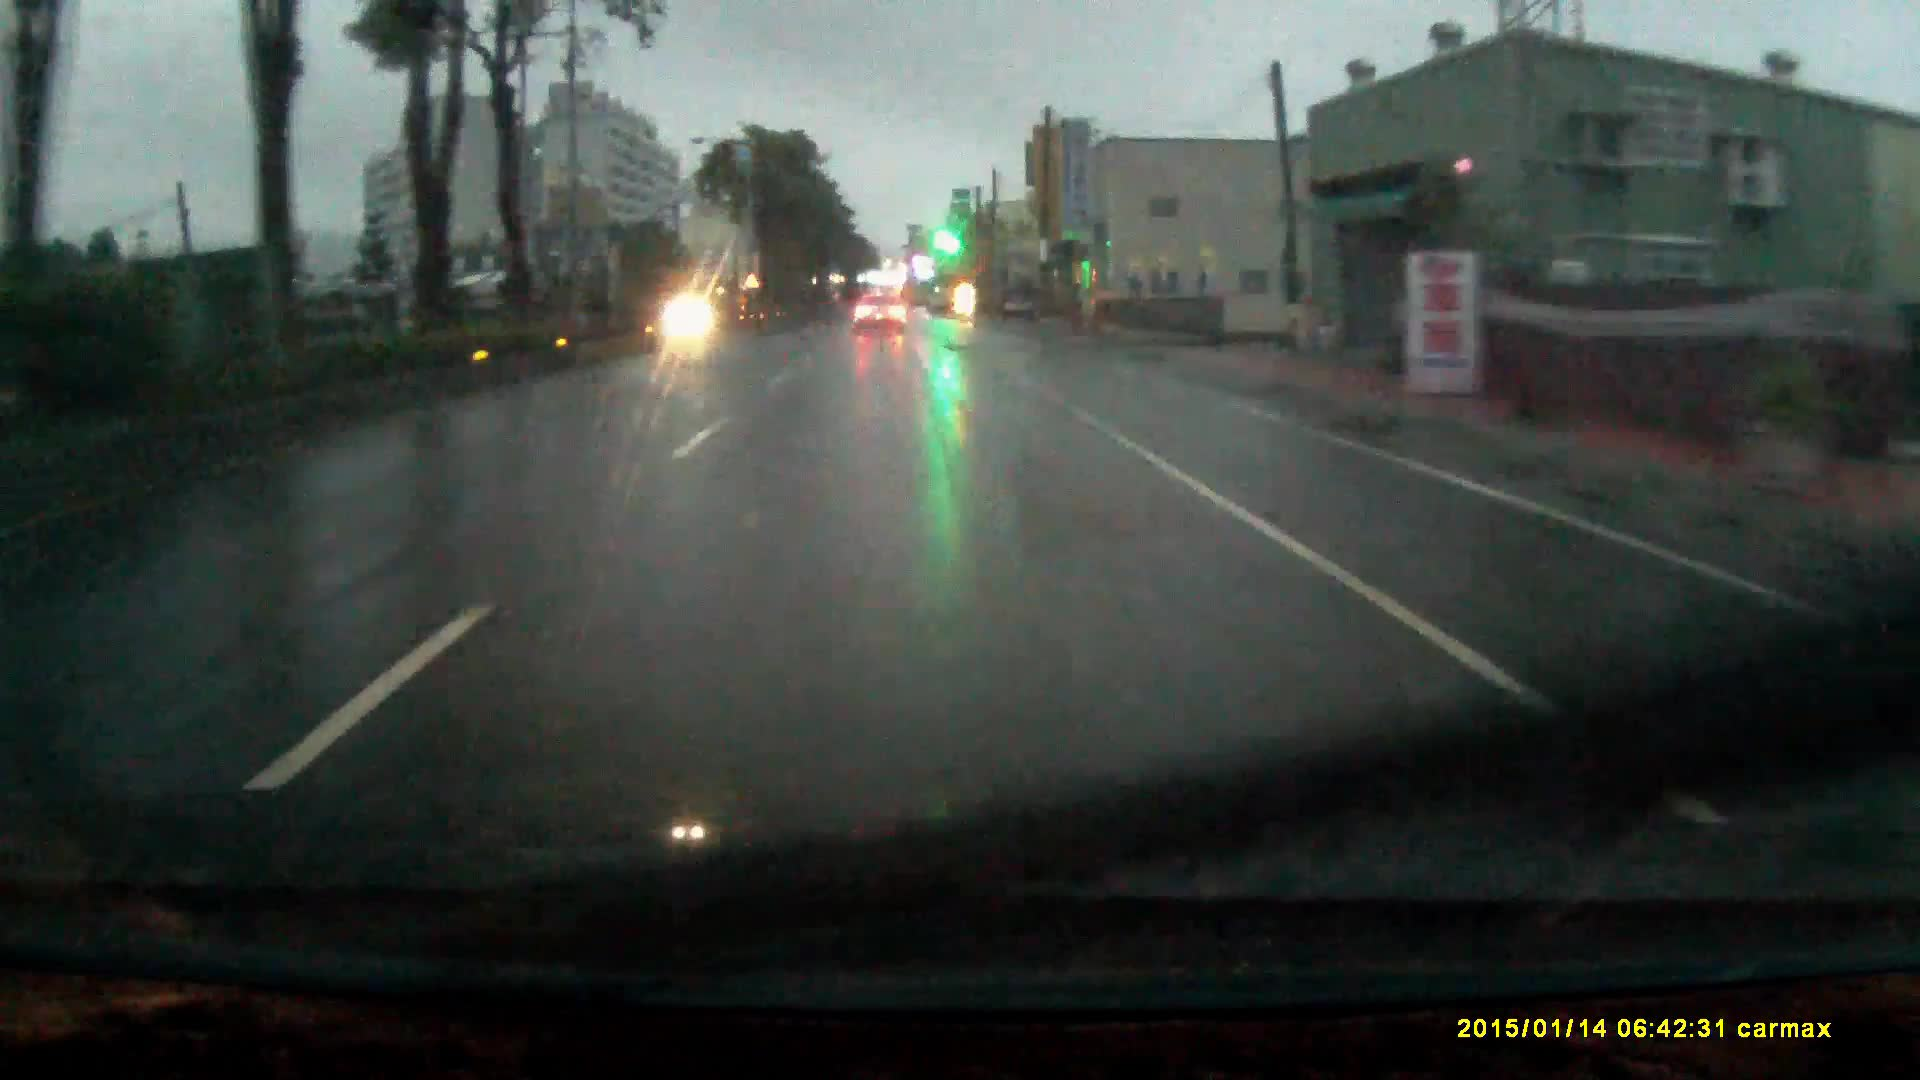vehicle: (853, 295, 905, 342)
